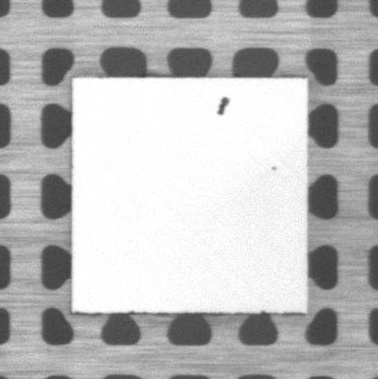DIE_INK: (218, 96, 228, 116), (268, 164, 277, 172)
